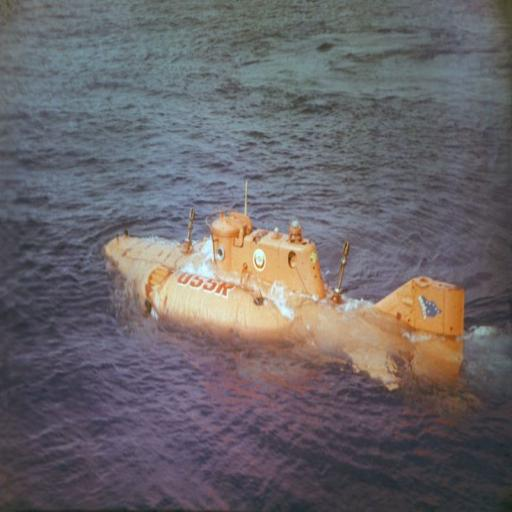submarine: (104, 192, 461, 391)
